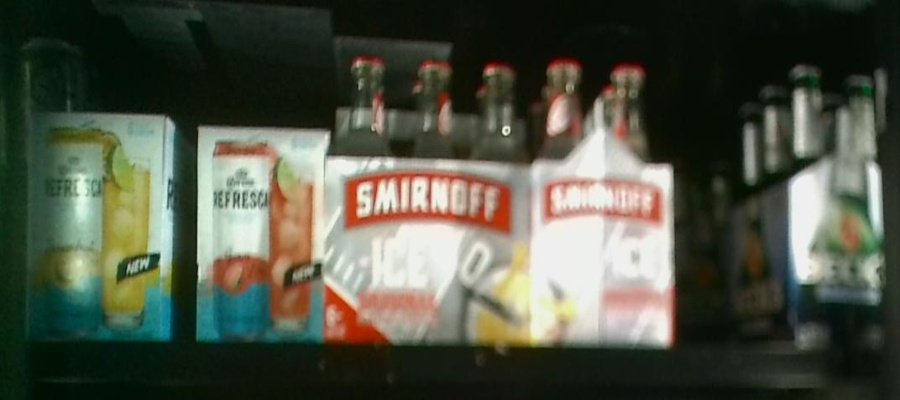bottle: (330, 53, 535, 350), (535, 56, 673, 346), (32, 110, 191, 344), (196, 121, 324, 342), (791, 63, 890, 346)
